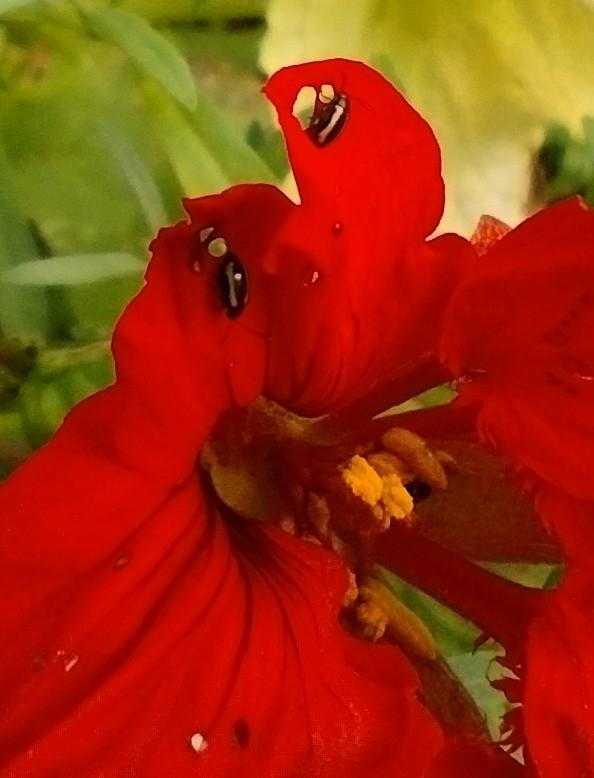flea_beetle: (204, 219, 269, 327), (298, 80, 369, 155)
